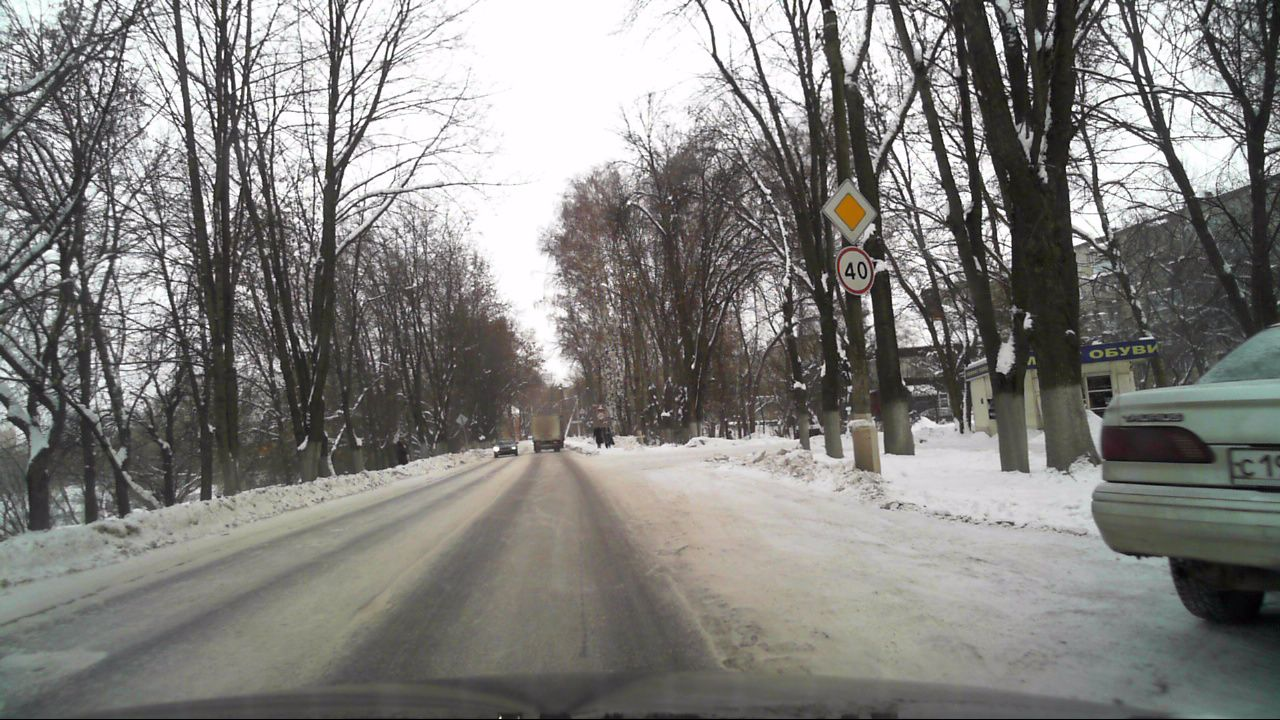speed_warning_40: (835, 245, 873, 296)
